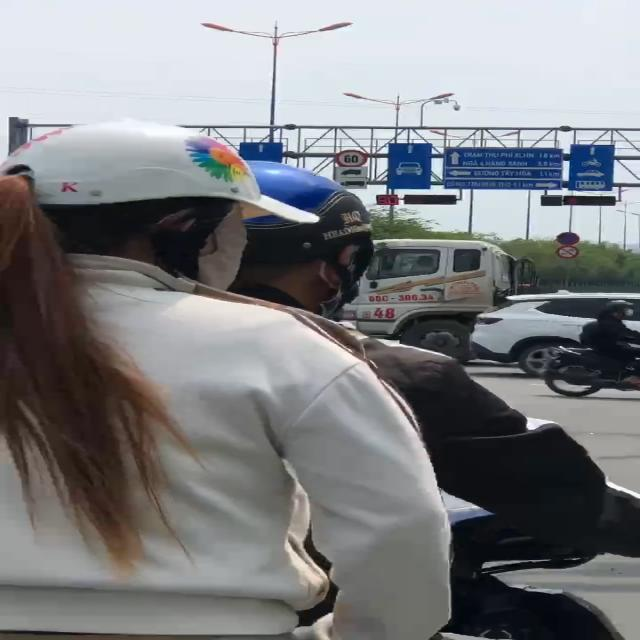Bien bao toc do toi da cho phep: (335, 150, 372, 169)
